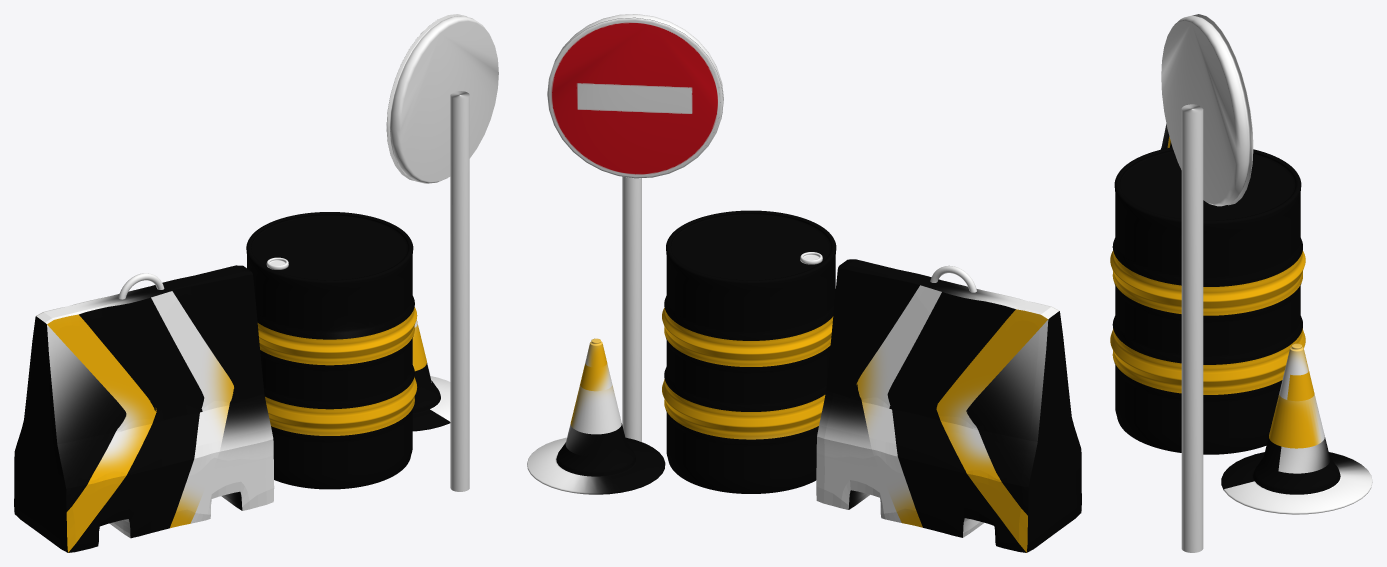
Rendered from 7fruat.fbx.
The picture shows the model from 3 angles, left to right: view 1: azimuth 30°, elevation 25°; view 2: azimuth 150°, elevation 25°; view 3: azimuth 270°, elevation 25°; orthographic projection. The views are drawn at different scales.
Parts seen in each view (by area): view 1: Cube, Cylinder, Cylinder.001, Cone.002; view 2: Cube, Cylinder, Cylinder.001, Cone.002; view 3: Cylinder, Cylinder.001, Cone.002.
Boxes of the visible parts, x1,y1,x2,y2 form: Cube: (14, 265, 274, 552); Cylinder: (246, 212, 417, 489); Cylinder.001: (386, 14, 498, 491); Cone.002: (412, 320, 450, 431); Cube: (816, 259, 1081, 552); Cylinder: (662, 210, 836, 493); Cylinder.001: (547, 14, 723, 441); Cone.002: (527, 338, 665, 494); Cylinder: (1110, 147, 1305, 454); Cylinder.001: (1161, 14, 1253, 552); Cone.002: (1221, 343, 1372, 514).
Size of the model in its own units: 457 by 426 by 195.
6 materials, 4 textured.
